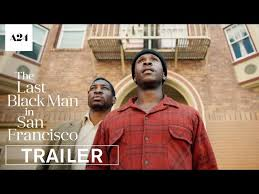black_male: (125, 47, 167, 92)
